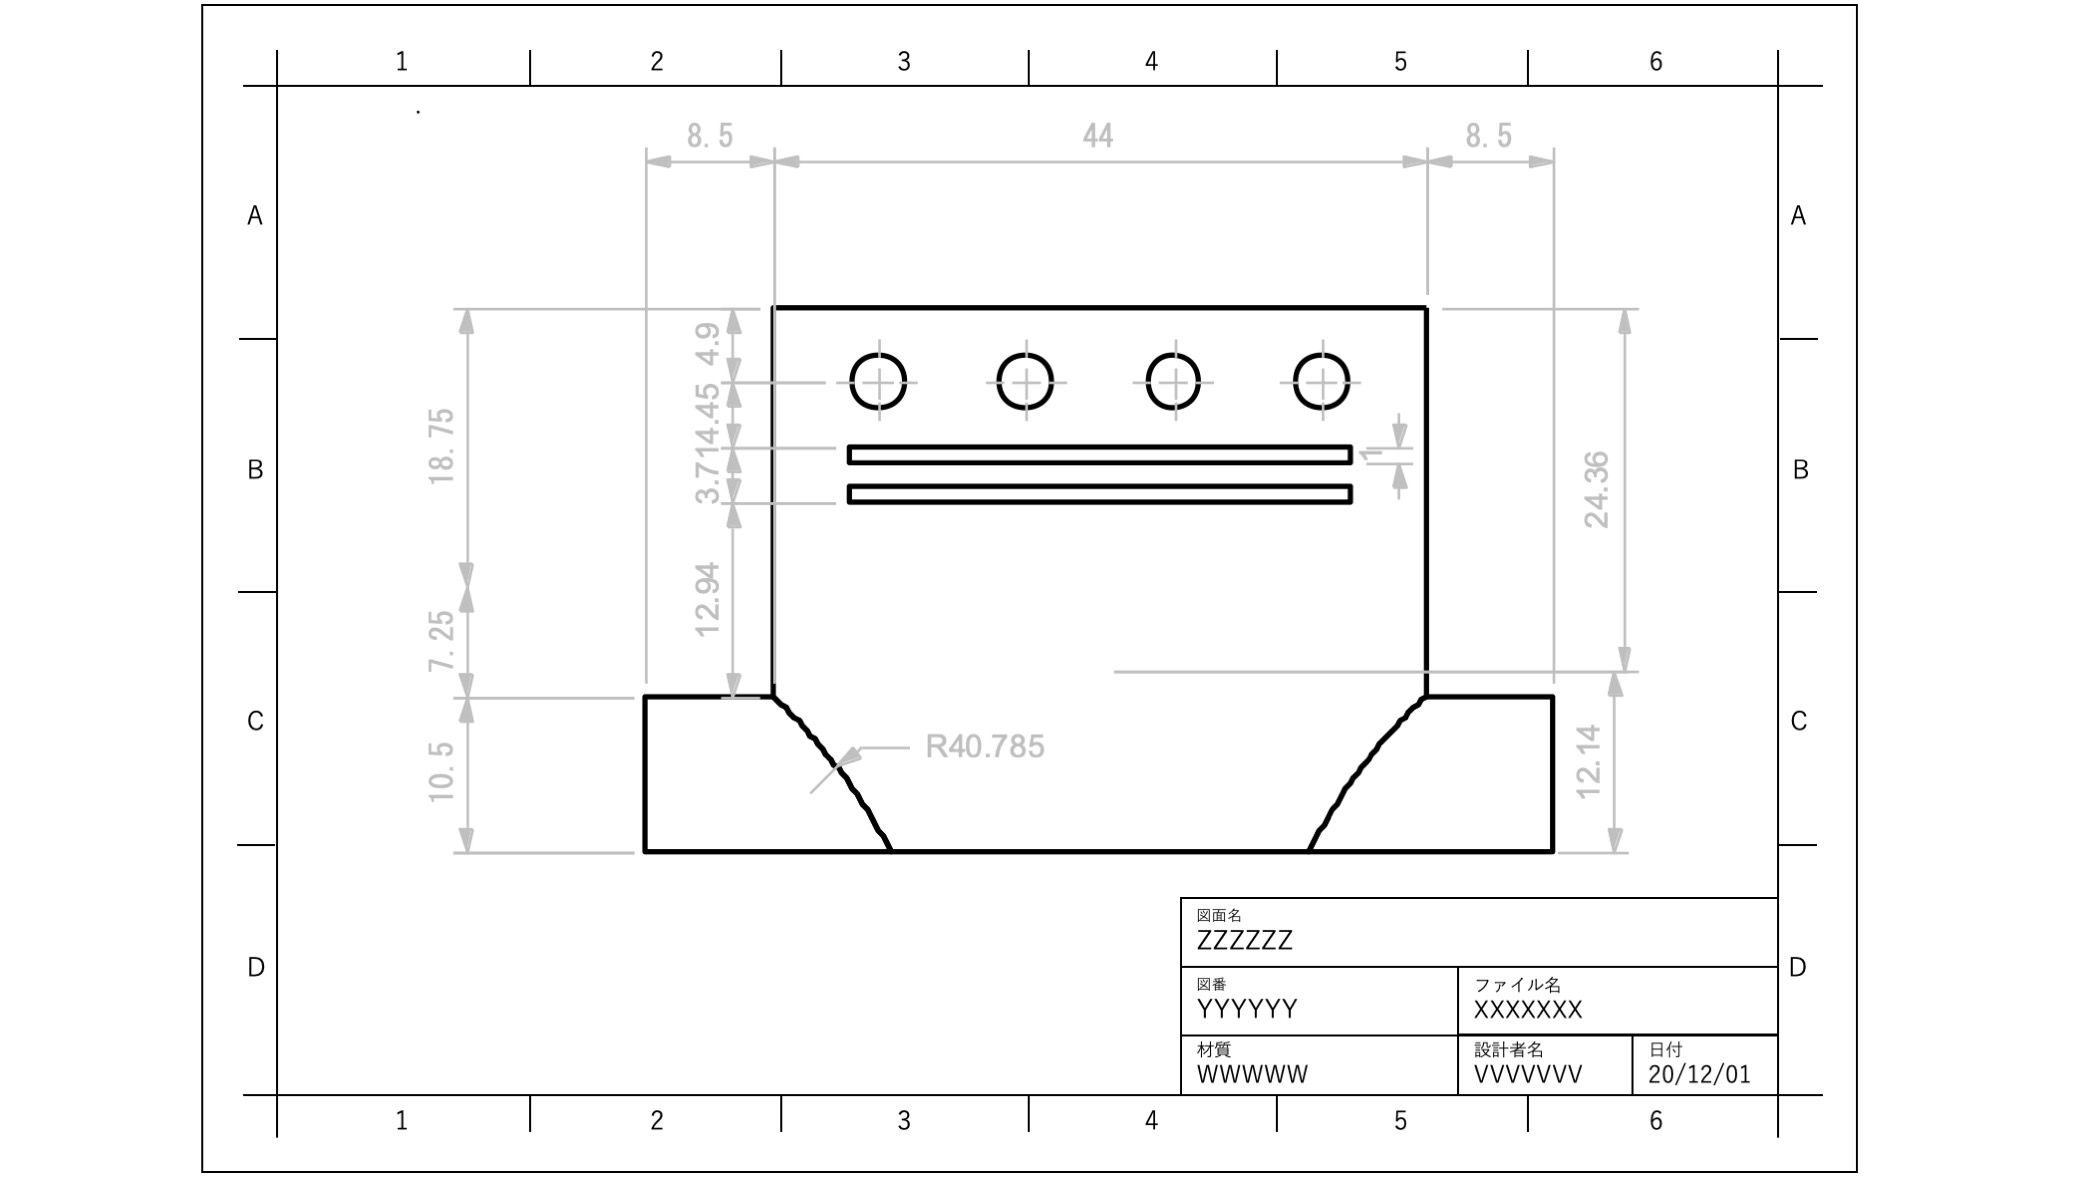circle: (835, 345, 916, 412), (1138, 346, 1212, 417), (1288, 346, 1353, 415), (998, 345, 1060, 415)
rectangle: (834, 473, 1367, 513), (837, 435, 1363, 469)
